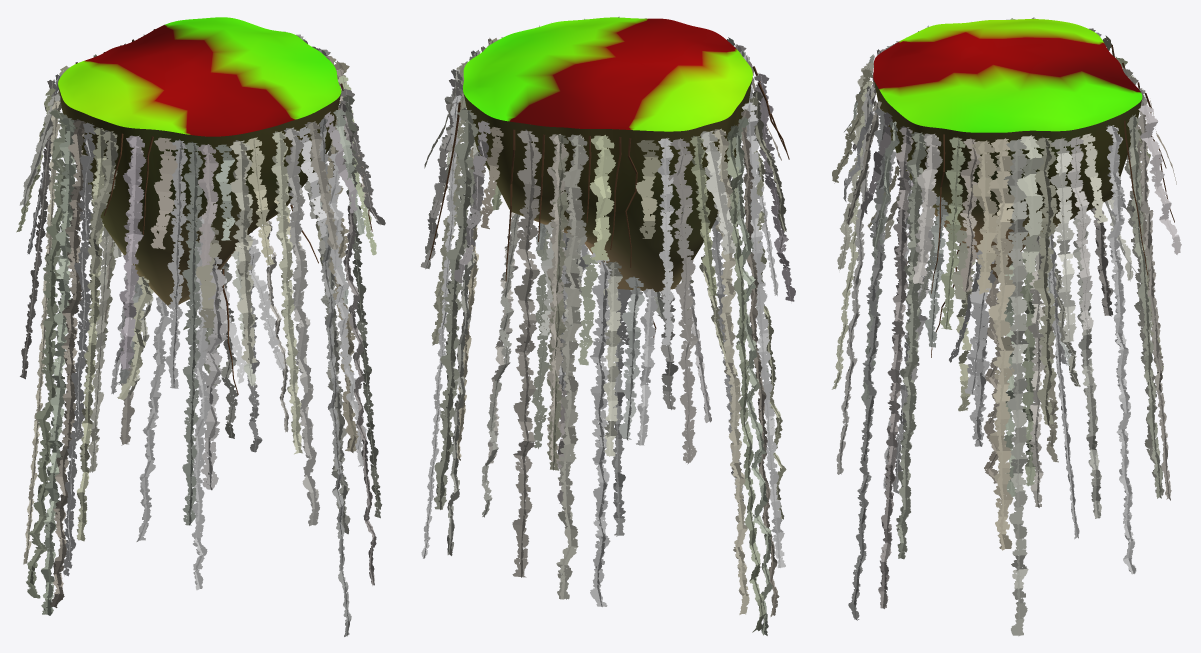
Rendered from SM_H01_Floater10.fbx.
The picture shows the model from 3 angles, left to right: view 1: azimuth 30°, elevation 25°; view 2: azimuth 150°, elevation 25°; view 3: azimuth 270°, elevation 25°; orthographic projection. The views are drawn at different scales.
Visible parts, largest first — view 1: SM_H01_Floater10_Ivy, SM_H01_Floater10; view 2: SM_H01_Floater10_Ivy, SM_H01_Floater10; view 3: SM_H01_Floater10_Ivy, SM_H01_Floater10.
Boxes of the visible parts, box(x1,y1,x2,y2) form: SM_H01_Floater10_Ivy: box(16, 24, 385, 636); SM_H01_Floater10: box(58, 17, 341, 308); SM_H01_Floater10_Ivy: box(420, 16, 795, 635); SM_H01_Floater10: box(463, 17, 752, 291); SM_H01_Floater10_Ivy: box(831, 17, 1181, 636); SM_H01_Floater10: box(873, 19, 1142, 279).
Bounding box in the file's own units: 19.36 × 30.33 × 18.8.
